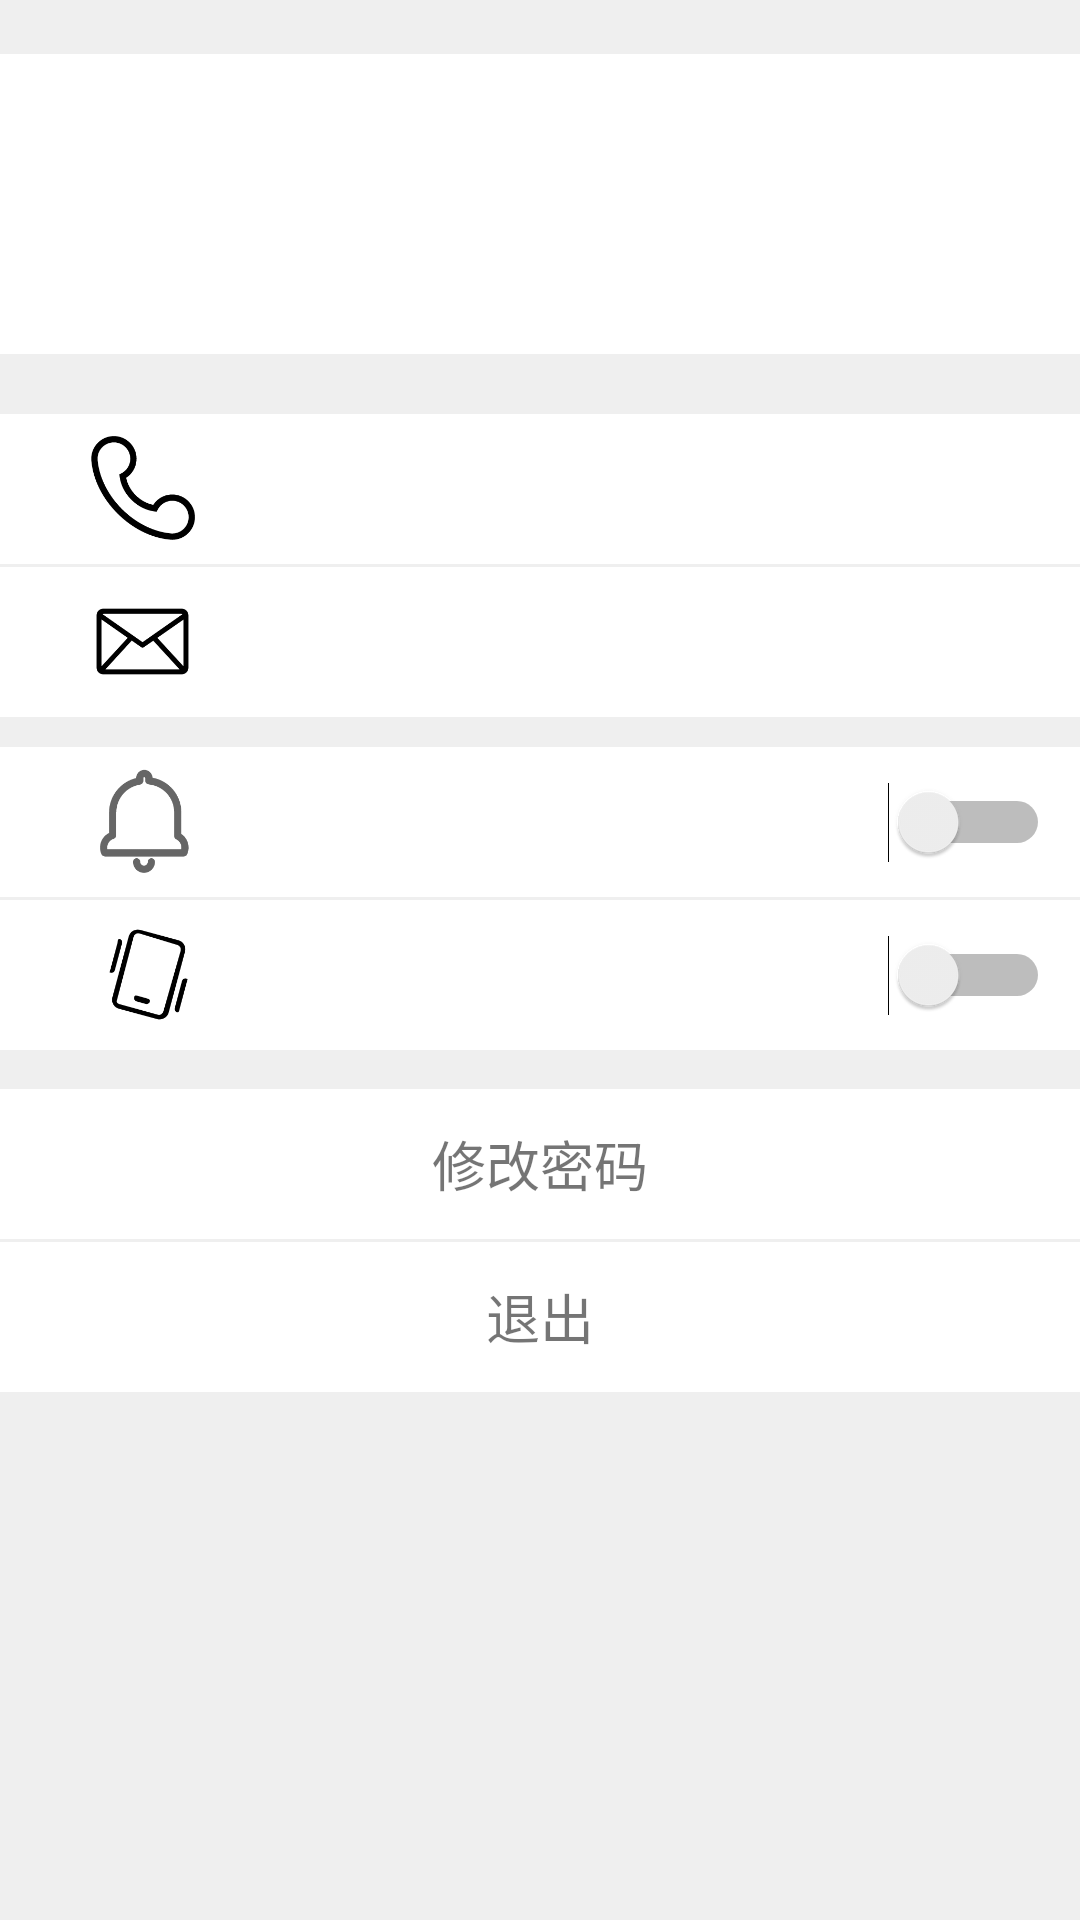

Icons on this 1080*1920 Android screen, each with the point to tap as (x,y):
me bell: (144,821)
me disturb: (148,974)
me email: (142,641)
me phone: (143,488)
